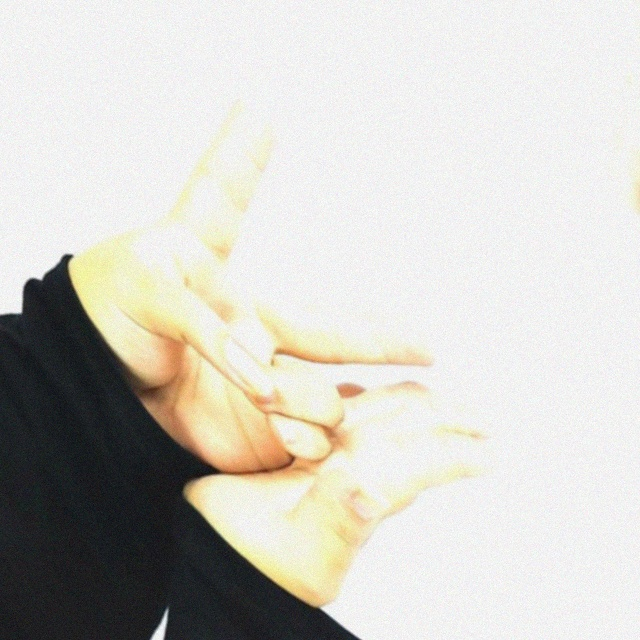Scissors: (27, 87, 452, 529)
